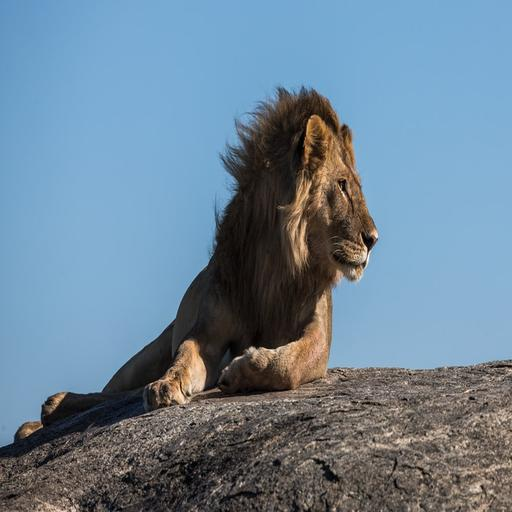Lion: (0, 77, 392, 459)
